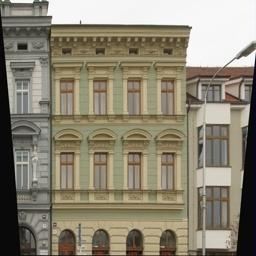building: (50, 22, 185, 254), (182, 60, 256, 256), (0, 0, 52, 256)
